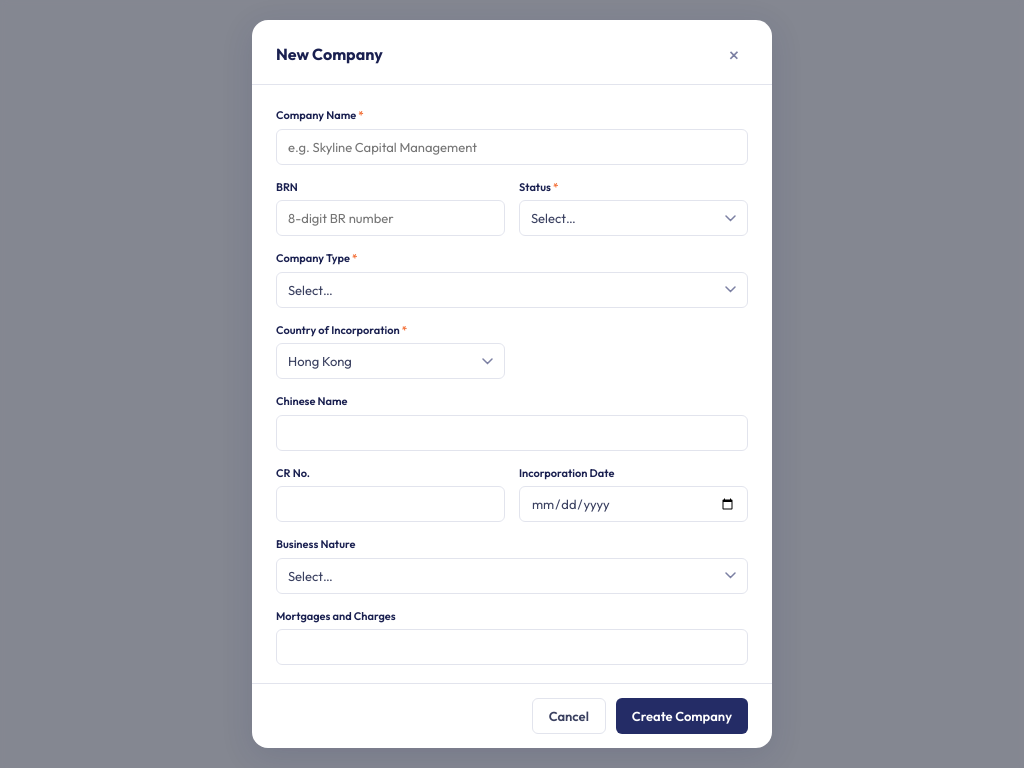
AddCompanyModal — discard guard (UAT F-1) › asks before discarding a filled form dismissed by backdrop click
The width and height of the screenshot is (1024, 768).
Type "NewCo" into the field labelled "Company Name *".
click(512, 146); type("NewCo")  # box [276,128,748,164]
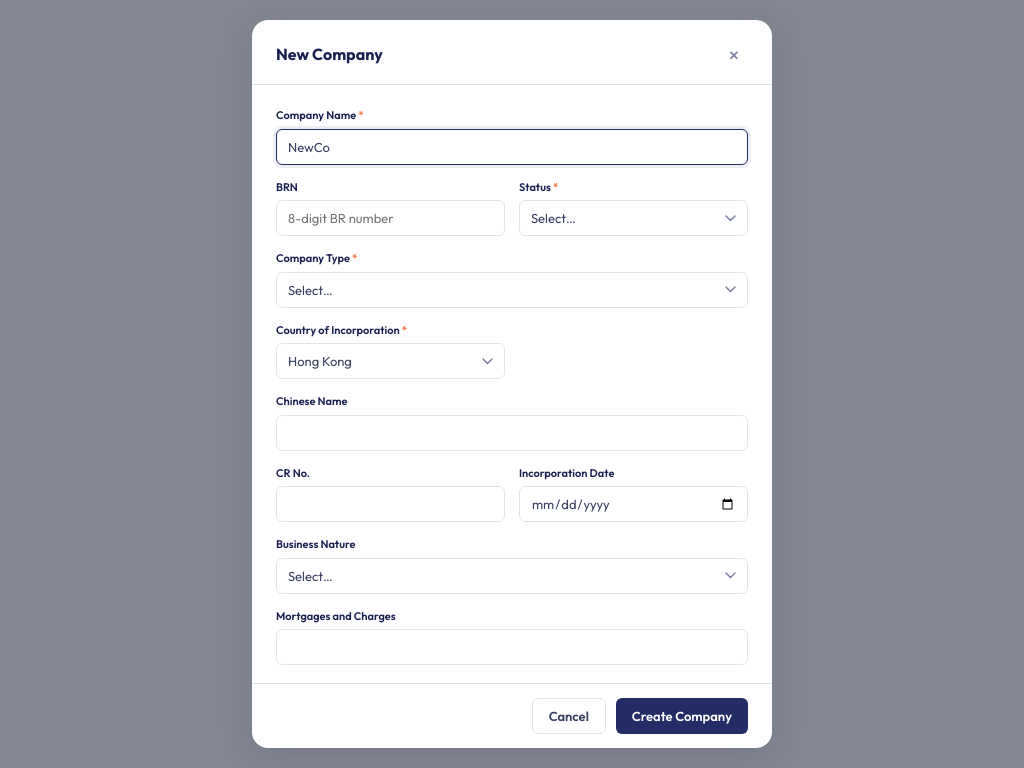
Click the element with class "overlay".
click(61, 384)  # box [0,0,1023,767]
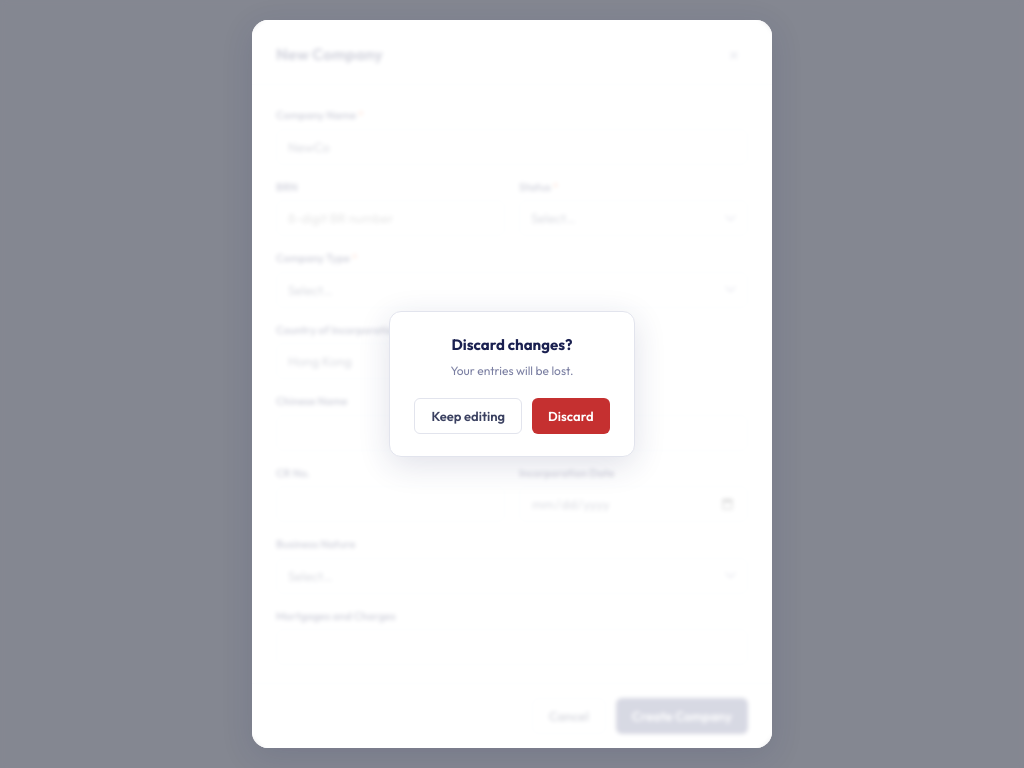
expect the text "Discard changes?" is shown: met, box [451,335,572,354]
